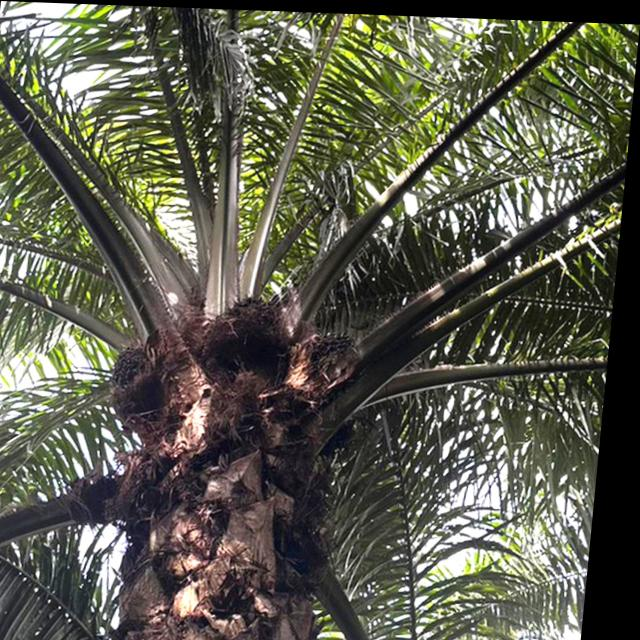unripe: (284, 319, 377, 400), (223, 286, 289, 350), (108, 336, 166, 393)
